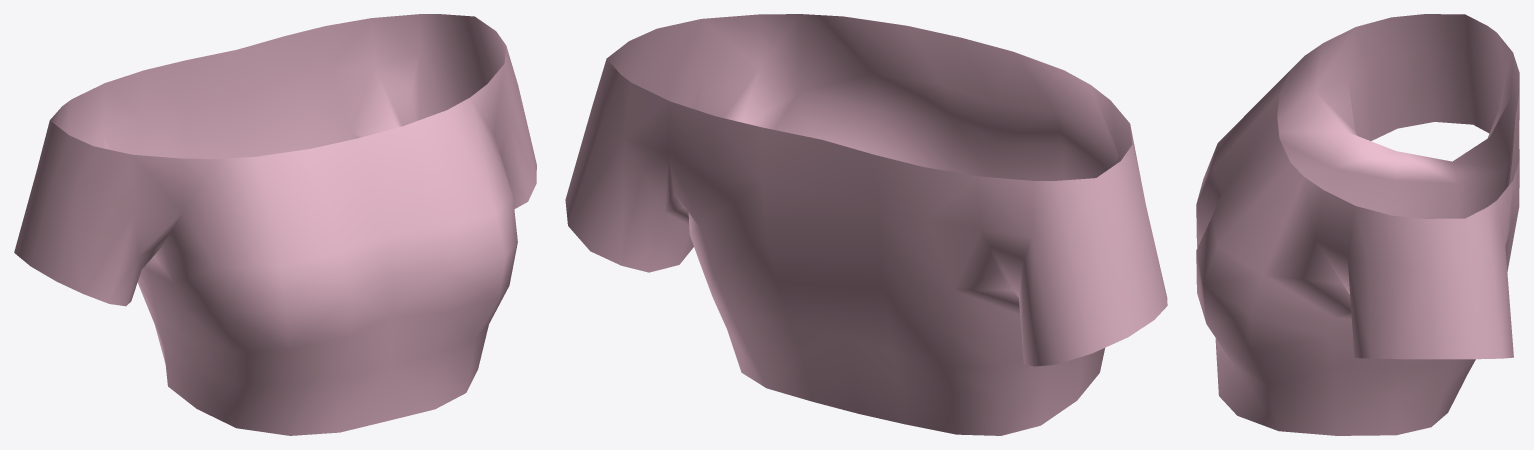
Rendered from blouse_12.glb.
3 views of the same model, side by side, from view 1: azimuth 30°, elevation 25°; view 2: azimuth 150°, elevation 25°; view 3: azimuth 270°, elevation 25° (orthographic). The views are drawn at different scales.
Parts seen in each view (by area): view 1: blouse_12; view 2: blouse_12; view 3: blouse_12.
Part boxes in pixels (x1,y1,x2,y2): blouse_12: [14, 14, 536, 435]; blouse_12: [565, 14, 1167, 435]; blouse_12: [1196, 14, 1519, 435].
Size of the model in its own units: 0.4285 by 0.2163 by 0.2466.
